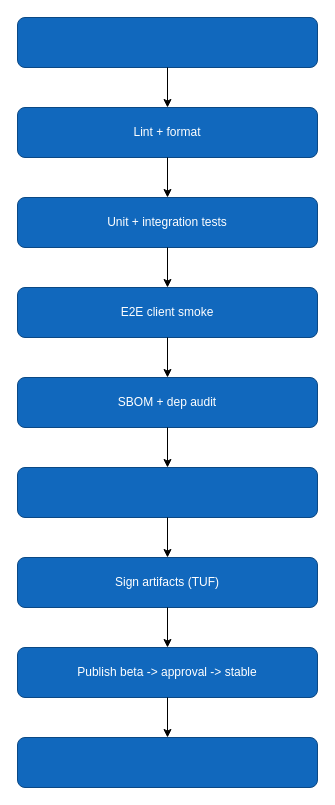
Image size: 335x805. Some labels were removed from this diagram. Here are the shapes that lost their labels. From the top down, the centre of each, then its label:
At (x=167, y=42): "Git push / PR".
At (x=167, y=492): "Build matrix (5 platforms)".
At (x=167, y=762): "Build service images -> deploy staging -> approval -> prod".
